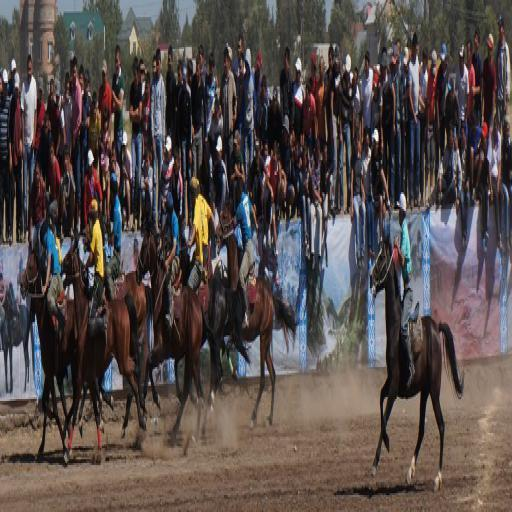horse: (18, 211, 301, 476), (368, 224, 466, 498), (0, 271, 36, 402), (0, 314, 10, 398)
